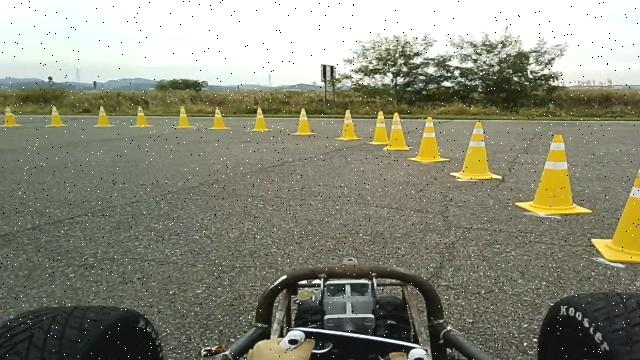blue cone: (280, 330, 306, 350)
yellow cone: (514, 134, 592, 216), (590, 148, 640, 264), (450, 121, 502, 181), (407, 116, 450, 163), (382, 112, 412, 151), (334, 109, 362, 141), (366, 110, 389, 145), (246, 106, 273, 132), (291, 108, 316, 136), (173, 105, 196, 128), (207, 106, 230, 129), (130, 105, 153, 128), (92, 105, 115, 127), (45, 105, 67, 127), (0, 104, 21, 127), (632, 149, 640, 189)
